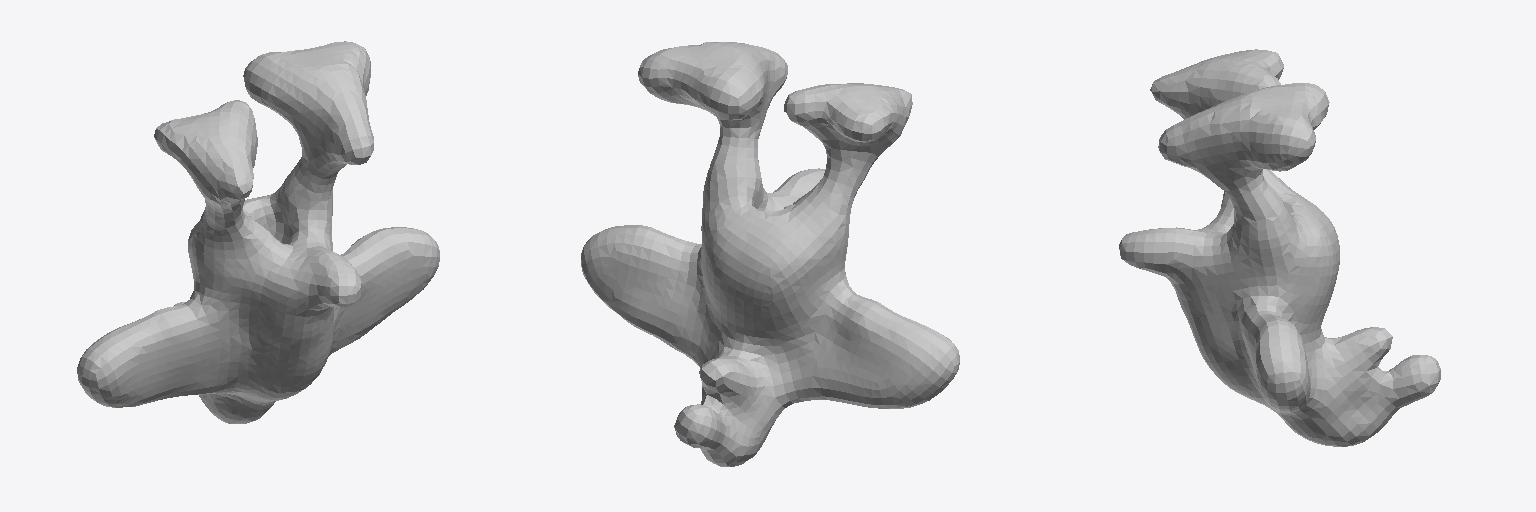
The model's file is 04_retopologized.obj.
3 renders of one model, left to right at view 1: azimuth 30°, elevation 25°; view 2: azimuth 150°, elevation 25°; view 3: azimuth 270°, elevation 25°, orthographic.
Visible parts, largest first — view 1: mesh-retopo 1-retopo 1_0; view 2: mesh-retopo 1-retopo 1_0; view 3: mesh-retopo 1-retopo 1_0.
Part boxes in pixels (left/top/right/bottom): mesh-retopo 1-retopo 1_0: left=77, top=41, right=439, bottom=423; mesh-retopo 1-retopo 1_0: left=581, top=42, right=959, bottom=466; mesh-retopo 1-retopo 1_0: left=1119, top=49, right=1440, bottom=446.
Bounding box in the file's own units: 10.93 × 10.67 × 8.37.